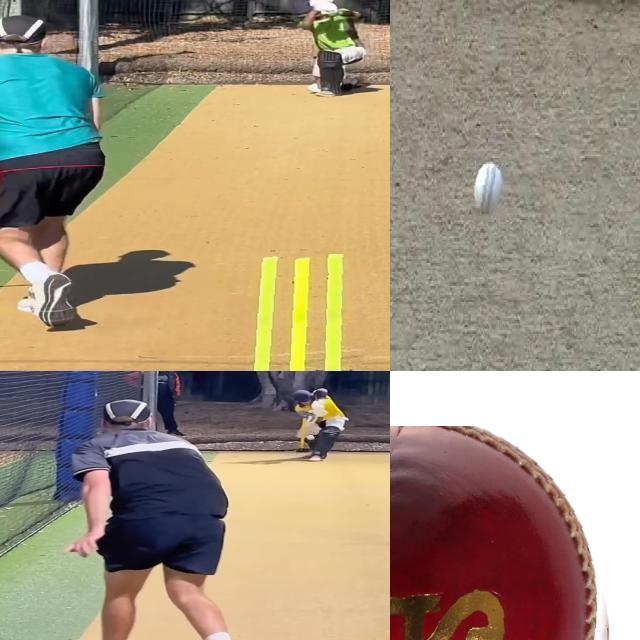Cricket ball: (390, 426, 620, 640), (473, 160, 505, 220), (306, 436, 316, 442)
Stumps: (247, 254, 371, 371)
